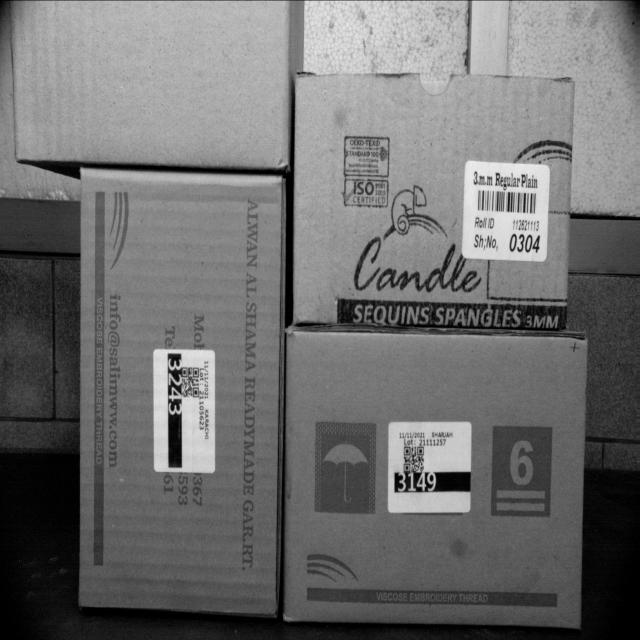box: (286, 329, 586, 629), (82, 170, 280, 616), (294, 75, 568, 328), (12, 3, 288, 159)
